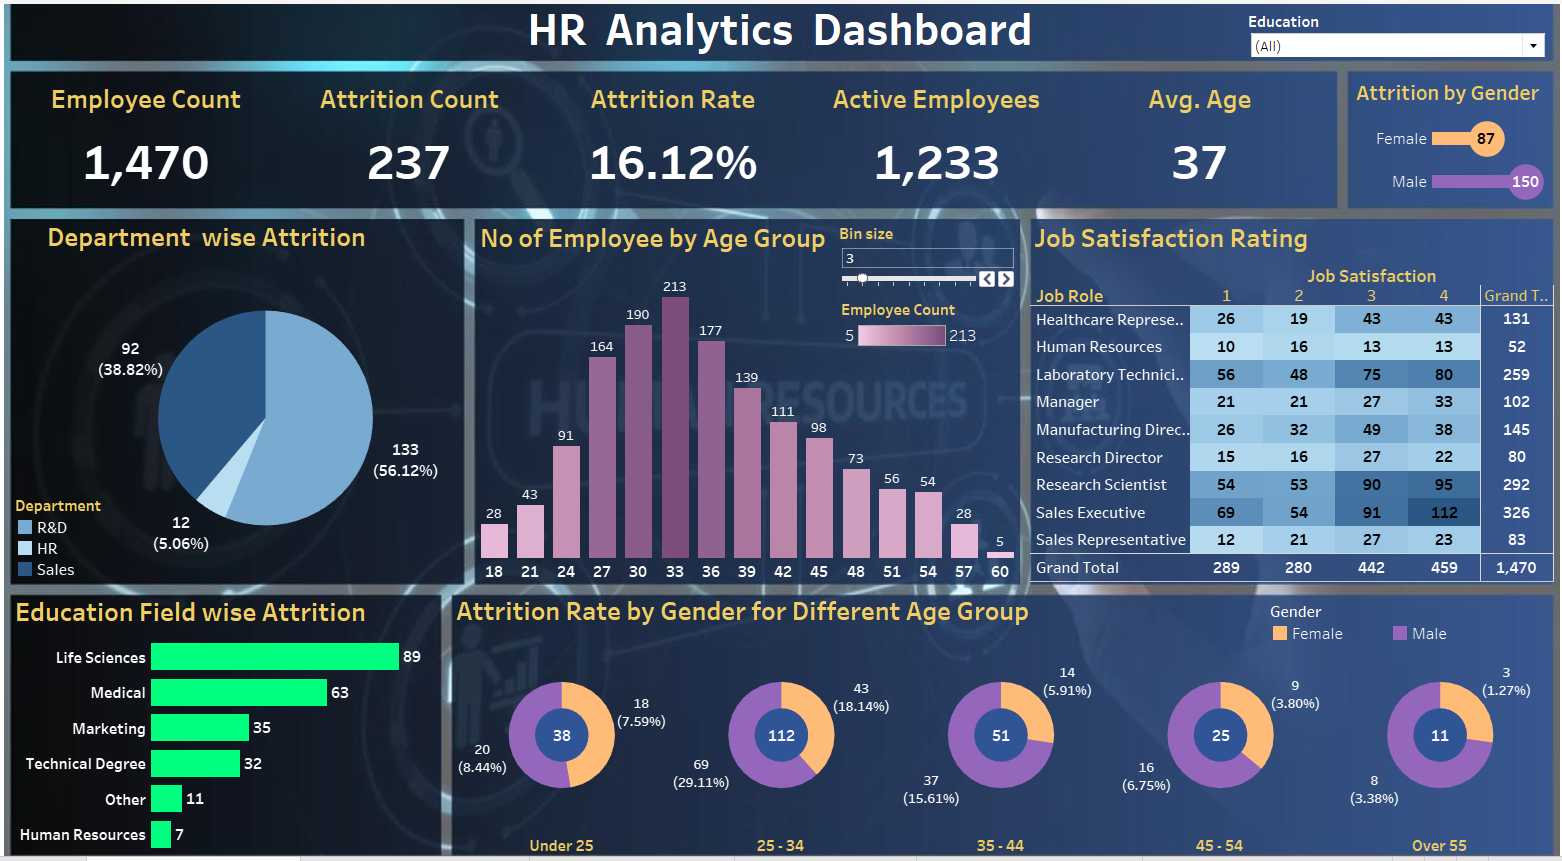

This screenshot's page, from the dashboard's own definition file:
{"tool":"tableau","page":{"name":"HR Analystics Dashboard","canvas":[1580,900],"ordinal":0},"visuals":[{"type":"image","param":"C:/Users/aishwarya/OneDrive/Desktop/Data Analysis/PROJECT- 5/HR background.pptx.","box":[8,8,1564,884]},{"type":"text","box":[23,23,1530,58]},{"type":"filter","title":"Attrition Rate by Gender for Different Age Group","param":"[federated.1llzdkt0qeksdh16ac7tw0lbn69y].[none:Education:nk]","box":[1272,23,284,59]},{"type":"worksheet","title":"Attrition by Gender","mark":"Automatic","rows":["Gender"],"cols":["Calculation_287385984751767552","Calculation_287385984751767552"],"box":[1360,99,197,129]},{"type":"worksheet","title":"KPI","mark":"Automatic","box":[22,100,1318,129]},{"type":"worksheet","title":"Department  wise Attrition","mark":"Pie","box":[51,240,445,357]},{"type":"worksheet","title":"No of Employee by Age Group","mark":"Automatic","rows":["Employee Count"],"cols":["Age (bin)"],"box":[484,241,543,367]},{"type":"worksheet","title":"Job Satisfaction Rating","mark":"Square","rows":["Job Role"],"cols":["Job Satisfaction"],"box":[1038,241,524,366]},{"type":"parameter","param":"[Parameters].[Parameter 1]","box":[847,248,178,71]},{"type":"legend","title":"No of Employee by Age Group","param":"[federated.1llzdkt0qeksdh16ac7tw0lbn69y].[sum:Employee Count:qk]","box":[849,324,140,88]},{"type":"legend","title":"Department  wise Attrition","param":"[federated.1llzdkt0qeksdh16ac7tw0lbn69y].[none:Department:nk]","box":[23,520,140,85]},{"type":"worksheet","title":"Attrition Rate by Gender for Different Age Group","mark":"Pie","rows":["Calculation_1459447788296044545","Calculation_1459447788296044545"],"cols":["CF_age band"],"box":[460,614,1098,268]},{"type":"worksheet","title":"Education Field wise Attrition","mark":"Automatic","rows":["Education Field"],"cols":["Calculation_287385984751767552"],"box":[19,615,427,262]},{"type":"legend","title":"Attrition Rate by Gender for Different Age Group","param":"[federated.1llzdkt0qeksdh16ac7tw0lbn69y].[none:Gender:nk]","box":[1278,626,279,64]}]}

Visuals, with their boxes in screenshot pixels (x1, y1, x2, y2):
image: <bbox>0, 0, 1532, 854</bbox>
text: <bbox>14, 2, 1513, 59</bbox>
"Attrition Rate by Gender for Different Age Group" filter: <bbox>1238, 2, 1516, 60</bbox>
"Attrition by Gender" worksheet: <bbox>1324, 77, 1517, 203</bbox>
"KPI" worksheet: <bbox>13, 78, 1305, 204</bbox>
"Department  wise Attrition" worksheet (Pie marks): <bbox>42, 215, 478, 565</bbox>
"No of Employee by Age Group" worksheet: <bbox>466, 216, 998, 575</bbox>
"Job Satisfaction Rating" worksheet (Square marks): <bbox>1009, 216, 1522, 574</bbox>
parameter: <bbox>822, 223, 996, 292</bbox>
"No of Employee by Age Group" legend: <bbox>824, 297, 961, 383</bbox>
"Department  wise Attrition" legend: <bbox>14, 489, 152, 572</bbox>
"Attrition Rate by Gender for Different Age Group" worksheet (Pie marks): <bbox>443, 581, 1518, 844</bbox>
"Education Field wise Attrition" worksheet: <bbox>10, 582, 429, 839</bbox>
"Attrition Rate by Gender for Different Age Group" legend: <bbox>1244, 593, 1517, 656</bbox>
